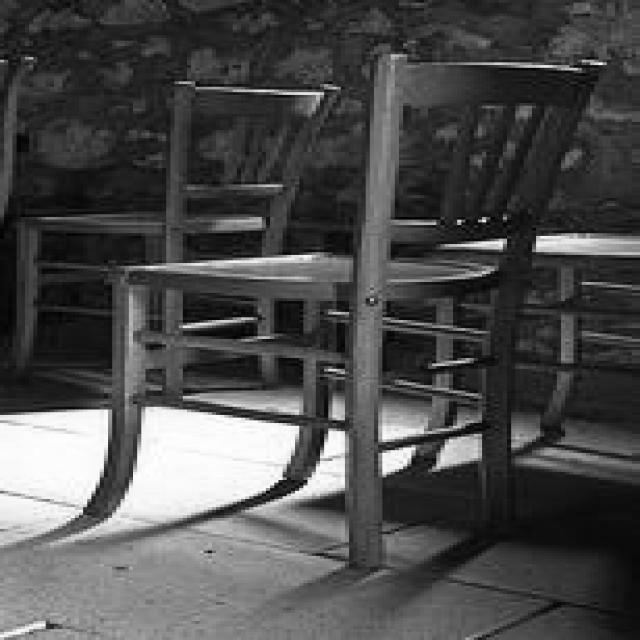chair: (84, 56, 612, 570)
